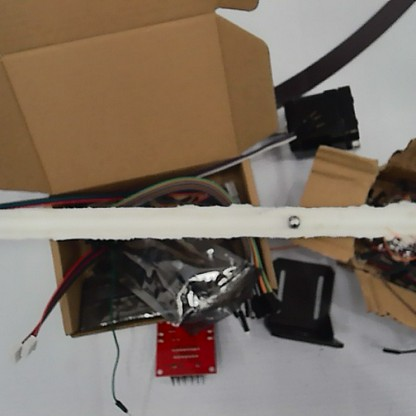ironball: (284, 210, 302, 230)
